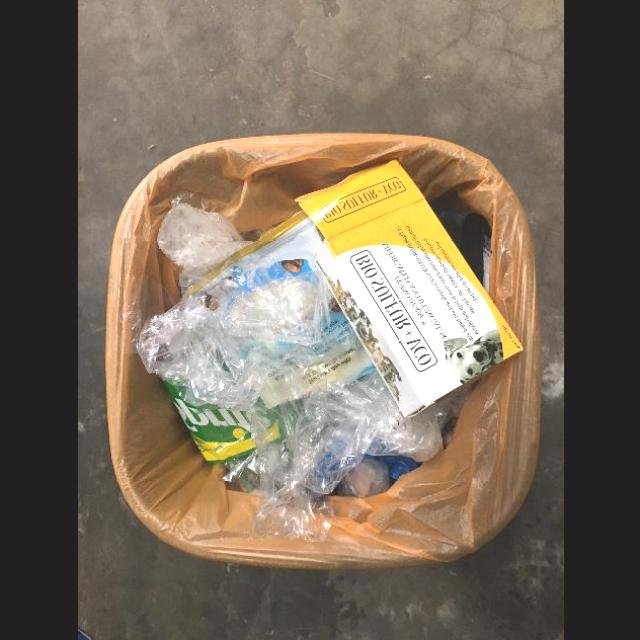carton: (297, 159, 524, 419)
tui_ni_long: (137, 263, 354, 412), (224, 372, 465, 503), (156, 203, 254, 296)
